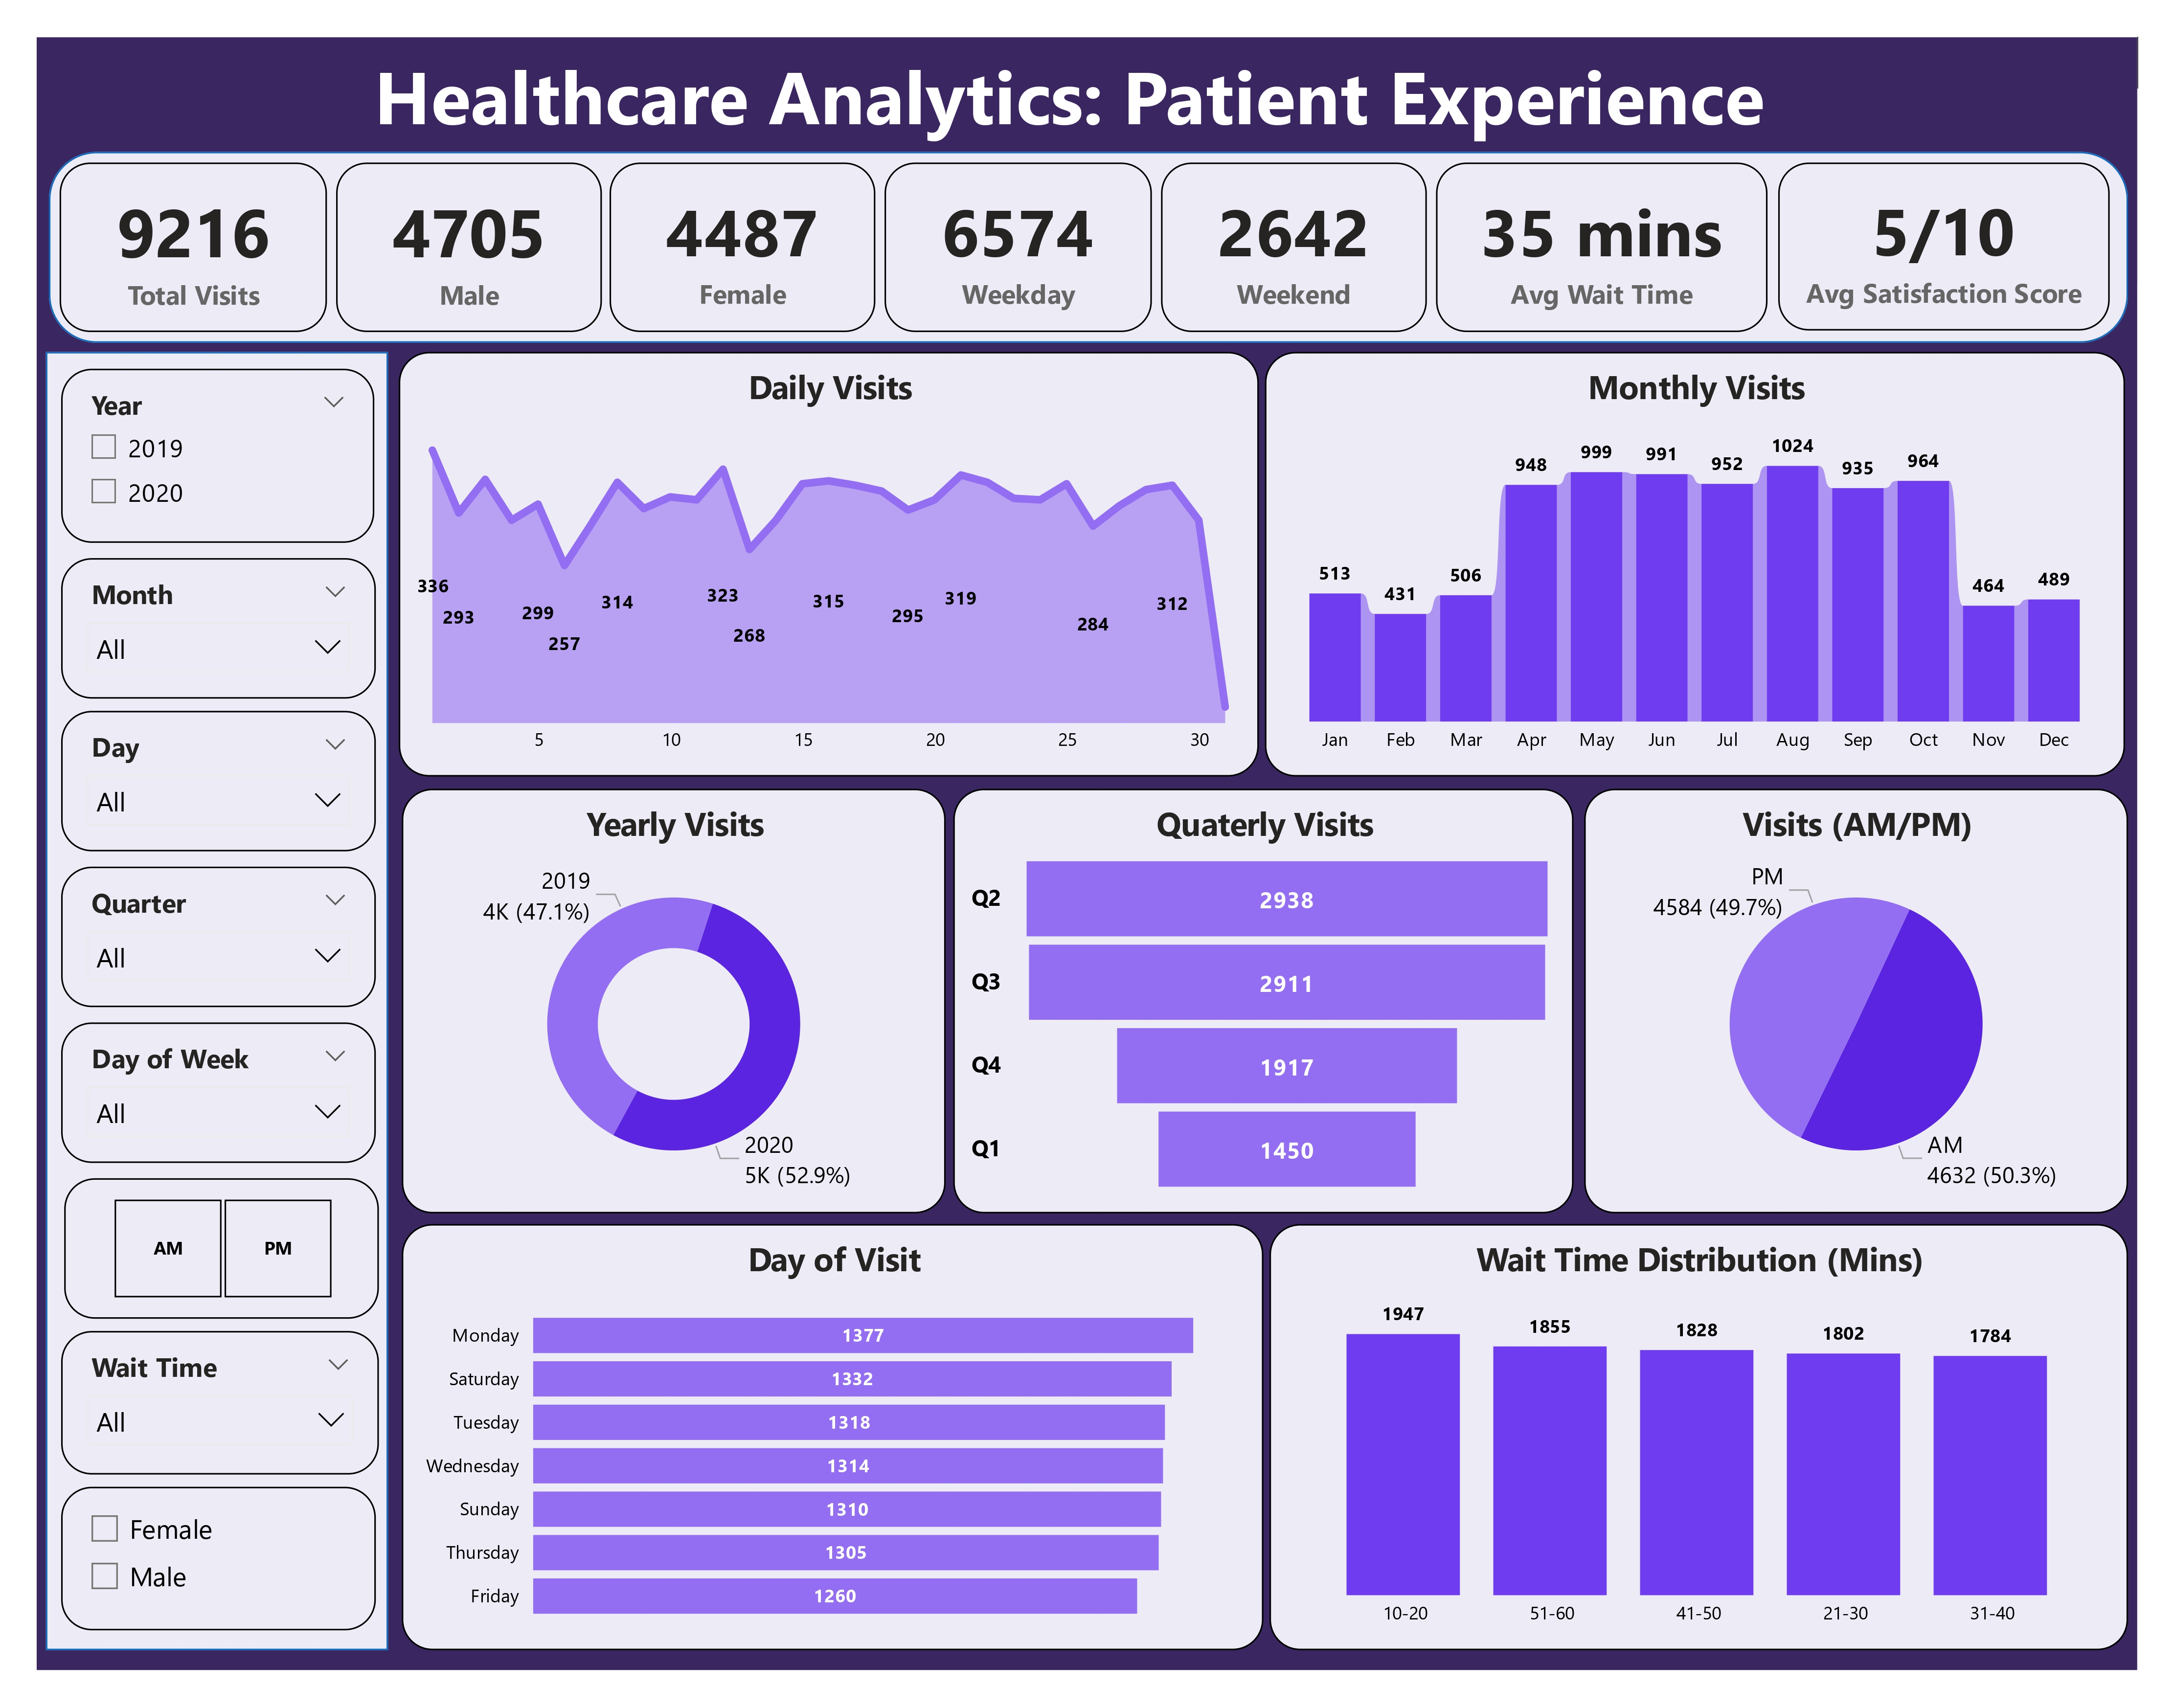

What the dashboard file says about the page in this screenshot:
{"tool":"powerbi","page":{"name":"Patient Visit & Time Analytics","canvas":[1375,1069],"ordinal":0},"visuals":[{"type":"textbox","box":[0,0,1351.7,84.5],"z":0},{"type":"shape","box":[7.8,74.5,1361,125.5],"z":1000},{"type":"card","fields":{"Values":["Patients.Total Visits"]},"box":[14.9,82.1,174.6,110.4],"z":2000},{"type":"card","fields":{"Values":["Visits.Avg Wait Time"]},"box":[916.4,82.1,217,110.4],"z":3000},{"type":"card","fields":{"Values":["Patients.Male"]},"box":[195.5,82.1,174,110.4],"z":4000},{"type":"card","fields":{"Values":["Patients.Female"]},"box":[374.6,82.1,174.6,110.4],"z":5000},{"type":"card","fields":{"Values":["Date.Weekday"]},"box":[555.2,82.1,174.6,110.4],"z":6000},{"type":"card","fields":{"Values":["Date.Weekend"]},"box":[735.8,82.1,174.6,110.4],"z":7000},{"type":"card","fields":{"Values":["Visits.Avg Satisfaction Score"]},"box":[1140,82,217,110],"z":8000},{"type":"shape","box":[6,206,224,850],"z":9000},{"type":"slicer","fields":{"Values":["Date.Year"]},"box":[15.5,217.2,205.2,113.8],"z":10000},{"type":"slicer","fields":{"Values":["Date.Month Name"]},"box":[15.7,341.2,205.9,92.2],"z":11000},{"type":"slicer","fields":{"Values":["Date.Day"]},"box":[15.7,441.2,205.9,92.2],"z":12000},{"type":"slicer","fields":{"Values":["Date.Quarter"]},"box":[15.7,543.1,205.9,92.2],"z":13000},{"type":"slicer","fields":{"Values":["Visits.Moment"]},"box":[17.6,747.1,205.9,92.2],"z":14000},{"type":"slicer","fields":{"Values":["Visits.wait_time_group"]},"box":[15.7,847.1,207.8,94.1],"z":15000},{"type":"slicer","fields":{"Values":["Patients.patient_gender"]},"box":[15.7,949,205.9,94.1],"z":16000},{"type":"slicer","fields":{"Values":["Date.Day Name"]},"box":[15.7,645.1,205.9,92.2],"z":17000},{"type":"stackedAreaChart","title":"Daily Visits","fields":{"Category":["Date.Day"],"Y":["Patients.Total Visits"]},"box":[237.3,205.9,562.7,278.4],"z":18000},{"type":"columnChart","title":"Monthly Visits","fields":{"Category":["Date.Month Name"],"Y":["Patients.Total Visits"]},"box":[803.9,205.9,562.7,278.4],"z":19000},{"type":"donutChart","title":"Yearly Visits","fields":{"Category":["Date.Year"],"Y":["Patients.Total Visits"]},"box":[239.1,492.2,356.2,278.1],"z":20000},{"type":"pieChart","title":"Visits (AM/PM)","fields":{"Y":["Patients.Total Visits"],"Category":["Visits.Moment"]},"box":[1012.5,492.2,356.2,278.1],"z":21000},{"type":"funnel","title":"Quaterly Visits","fields":{"Category":["Date.Quarter"],"Y":["Patients.Total Visits"]},"box":[600,492.2,406.2,278.1],"z":22000},{"type":"clusteredBarChart","title":"Day of Visit","fields":{"Category":["Date.Day Name"],"Y":["Patients.Total Visits"]},"box":[238.7,777.3,564,278.7],"z":23000},{"type":"lineClusteredColumnComboChart","title":"Wait Time Distribution (Mins)","fields":{"Y":["Patients.Total Visits"],"Category":["Visits.wait_time_group"]},"box":[806.7,777.3,562.7,278.7],"z":24000}]}

Visuals, with their boxes on the page's 1375x1069 design canvas (x1, y1, x2, y2). These are canvas units, not pixel positions in the 2175x1708 screenshot, which may show the page scaled, cropped or inside an application window:
textbox: rect(0, 0, 1352, 84)
shape: rect(8, 74, 1369, 200)
card - Patients.Total Visits: rect(15, 82, 190, 192)
card - Visits.Avg Wait Time: rect(916, 82, 1133, 192)
card - Patients.Male: rect(196, 82, 370, 192)
card - Patients.Female: rect(375, 82, 549, 192)
card - Date.Weekday: rect(555, 82, 730, 192)
card - Date.Weekend: rect(736, 82, 910, 192)
card - Visits.Avg Satisfaction Score: rect(1140, 82, 1357, 192)
shape: rect(6, 206, 230, 1056)
slicer - Date.Year: rect(16, 217, 221, 331)
slicer - Date.Month Name: rect(16, 341, 222, 433)
slicer - Date.Day: rect(16, 441, 222, 533)
slicer - Date.Quarter: rect(16, 543, 222, 635)
slicer - Visits.Moment: rect(18, 747, 224, 839)
slicer - Visits.wait_time_group: rect(16, 847, 224, 941)
slicer - Patients.patient_gender: rect(16, 949, 222, 1043)
slicer - Date.Day Name: rect(16, 645, 222, 737)
"Daily Visits" stackedAreaChart: rect(237, 206, 800, 484)
"Monthly Visits" columnChart: rect(804, 206, 1367, 484)
"Yearly Visits" donutChart: rect(239, 492, 595, 770)
"Visits (AM/PM)" pieChart: rect(1012, 492, 1369, 770)
"Quaterly Visits" funnel: rect(600, 492, 1006, 770)
"Day of Visit" clusteredBarChart: rect(239, 777, 803, 1056)
"Wait Time Distribution (Mins)" lineClusteredColumnComboChart: rect(807, 777, 1369, 1056)
